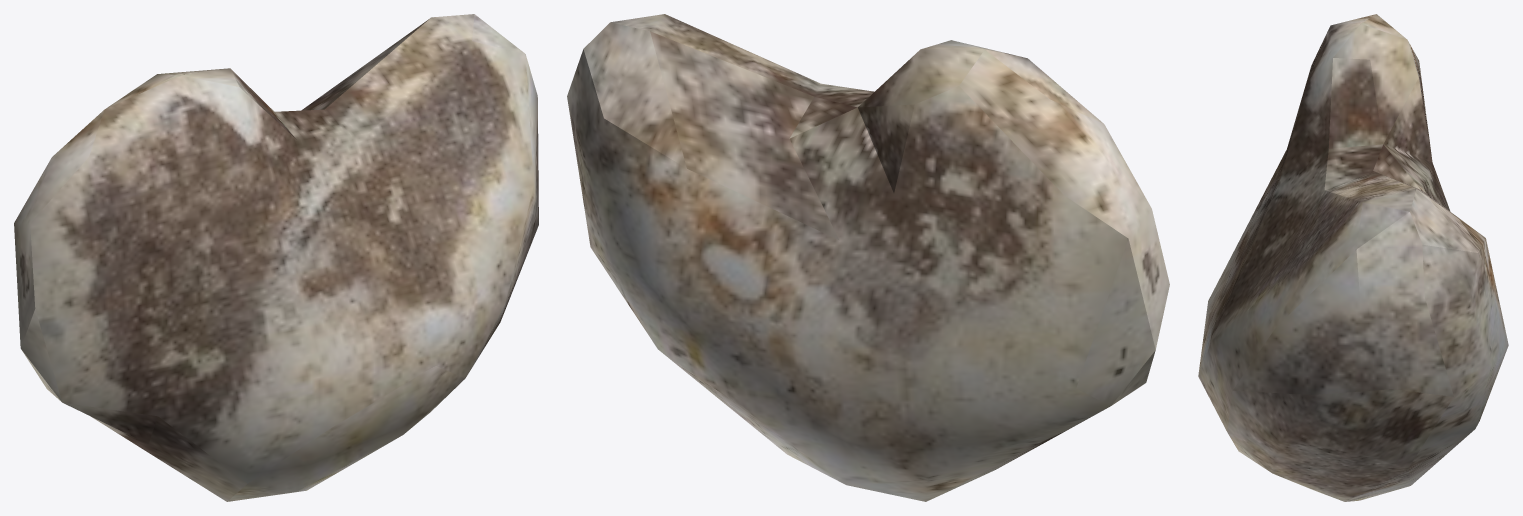
The picture shows the model from 3 angles, left to right: view 1: azimuth 30°, elevation 25°; view 2: azimuth 150°, elevation 25°; view 3: azimuth 270°, elevation 25°; orthographic projection. The views are drawn at different scales.
Visible parts, largest first — view 1: rock054_lod4; view 2: rock054_lod4; view 3: rock054_lod4.
Boxes of the visible parts, x1,y1,x2,y2 form: rock054_lod4: (14, 14, 538, 501); rock054_lod4: (567, 14, 1169, 501); rock054_lod4: (1198, 14, 1508, 501).
Bounding box in the file's own units: 1 × 0.7921 × 0.5275.
1 material, 1 textured.
